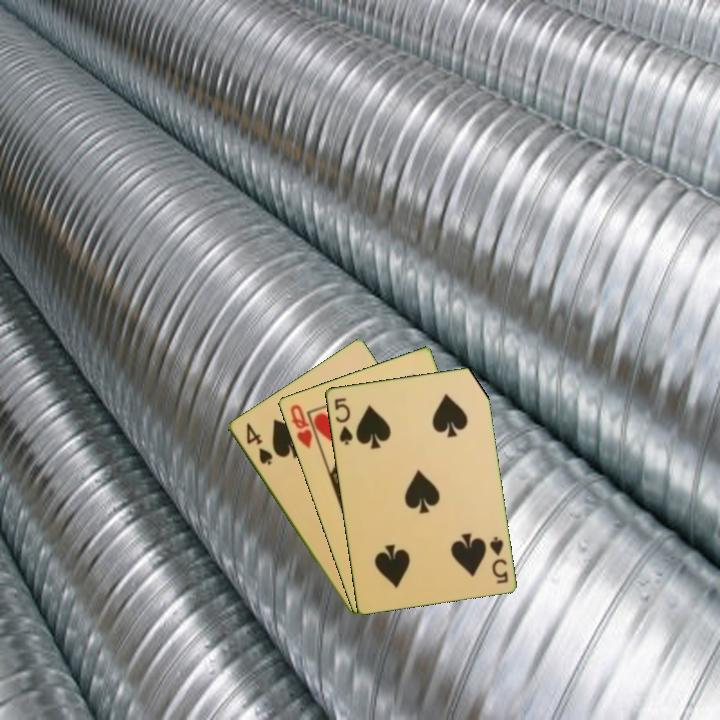4s: (242, 419, 275, 468)
5s: (485, 533, 511, 586), (330, 394, 355, 448)
Qh: (286, 401, 315, 452)
